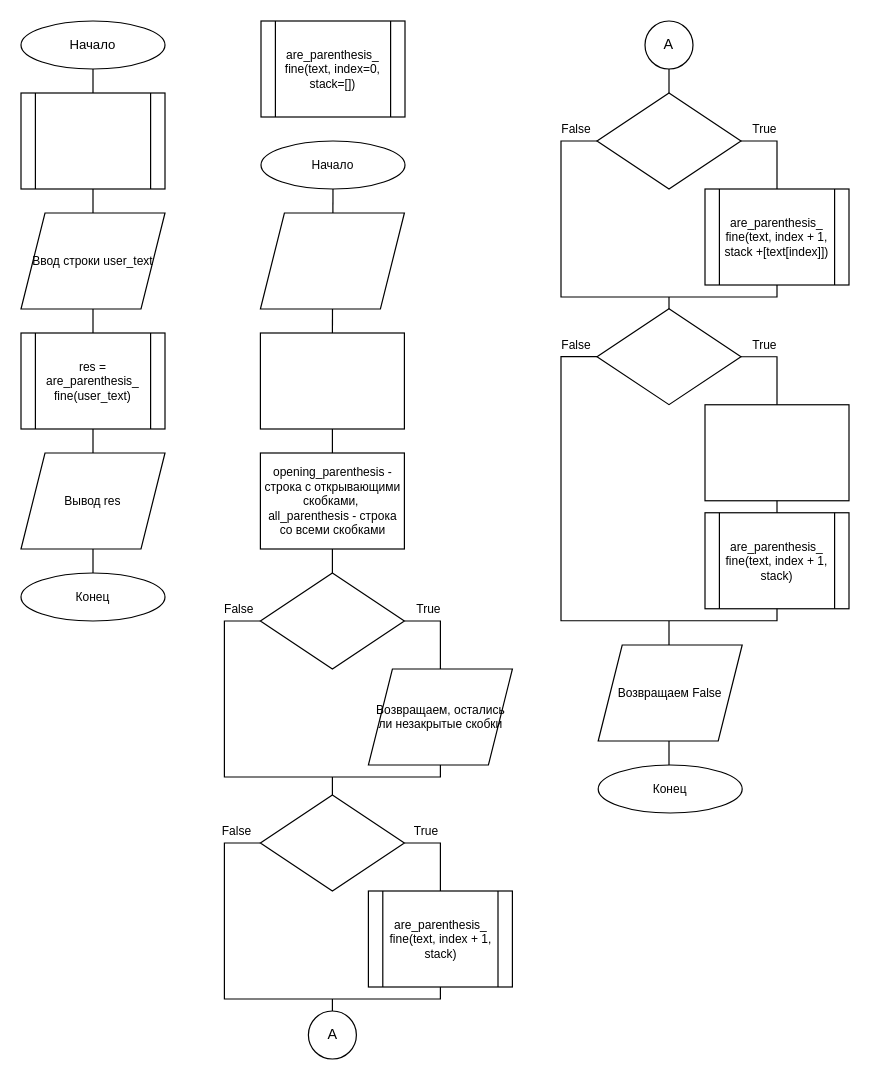
Some shapes in this 870 by 1080 pixel diagram are drawn without their labels. The shapes that lost their labels are listed below. From the top down, each one's centre as x and y in pixels, then its label:
At [92,140]: "Проверяем, правильно ли расставлены скобки".
At [668,140]: "Текущий символ - открывающая скобка".
At [331,260]: "Получаем text".
At [668,356]: "Последний символ стека - открывающая скобка для текущего".
At [331,380]: "matching - словарь для проверки парной скобки".
At [776,452]: "stack.pop()".
At [331,620]: "index = len(text)".
At [331,842]: "Текущий символ - не скобка".
